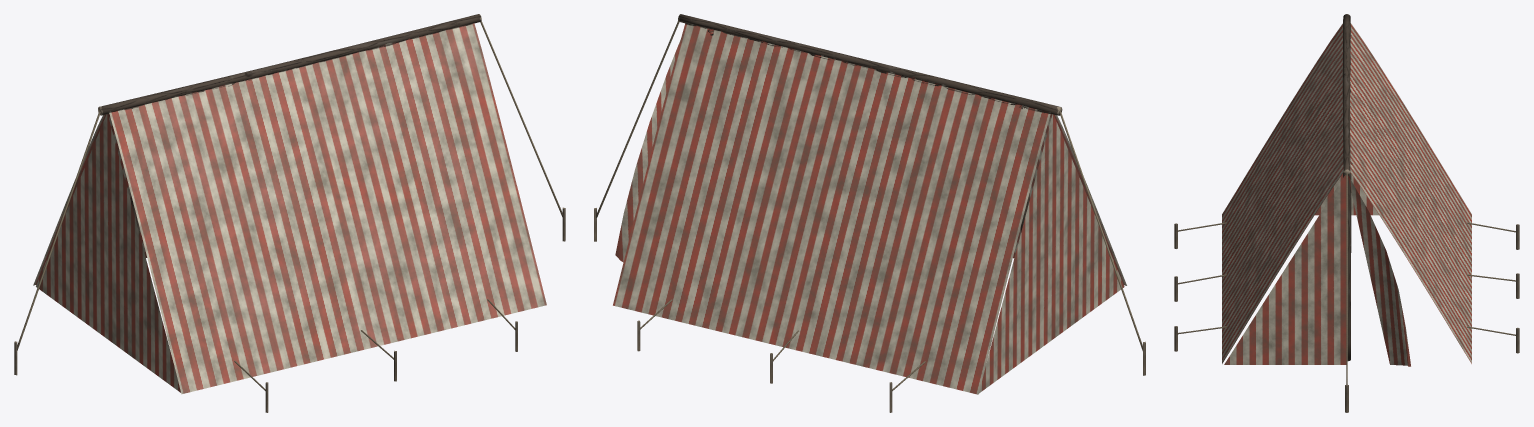
File: SM_Camp_Tent.fbx
3 views of the same model, side by side, from view 1: azimuth 30°, elevation 25°; view 2: azimuth 150°, elevation 25°; view 3: azimuth 270°, elevation 25° (orthographic). The views are drawn at different scales.
Visible parts, largest first — view 1: SM_Camp_Tent; view 2: SM_Camp_Tent; view 3: SM_Camp_Tent.
Part boxes in pixels (x1,y1,x2,y2): SM_Camp_Tent: (14,14,565,412); SM_Camp_Tent: (594,14,1145,412); SM_Camp_Tent: (1174,14,1519,412).
Size of the model in its own units: 392 by 253 by 168.
